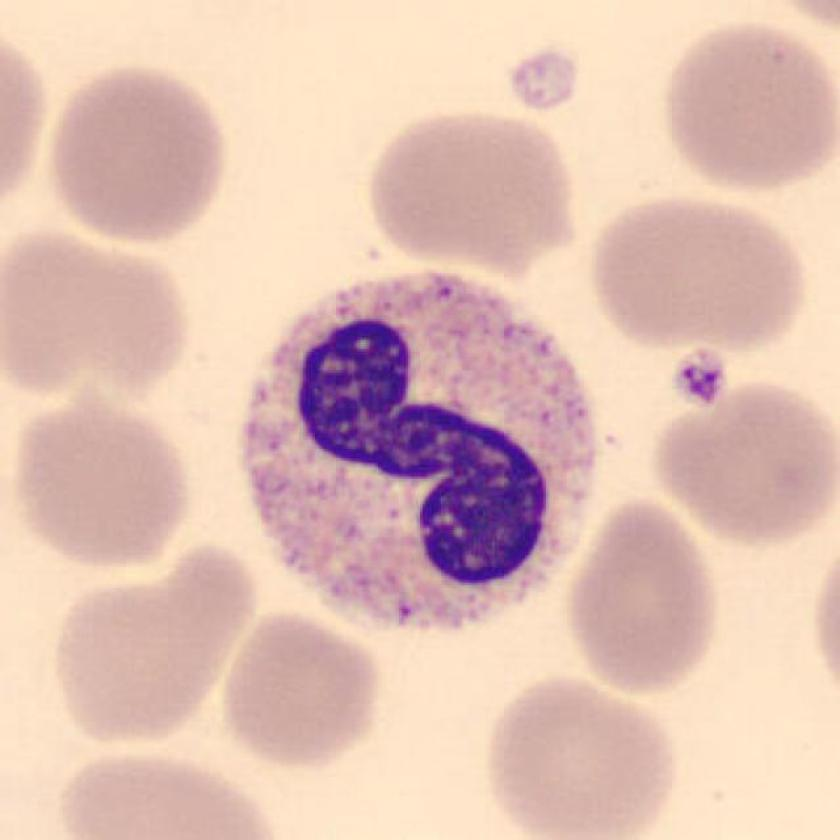neutrophil: (240, 273, 598, 631)
